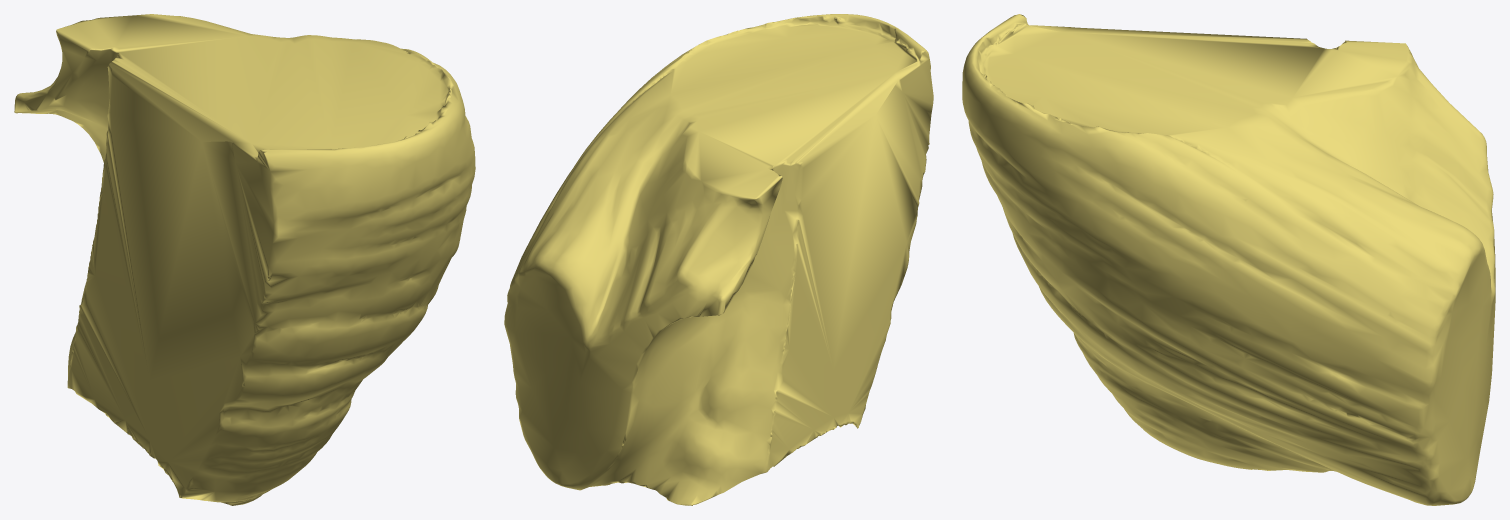
Rendered from pons-l.glb.
The picture shows the model from 3 angles, left to right: view 1: azimuth 30°, elevation 25°; view 2: azimuth 150°, elevation 25°; view 3: azimuth 270°, elevation 25°; orthographic projection. The views are drawn at different scales.
Parts seen in each view (by area): view 1: Pons.l; view 2: Pons.l; view 3: Pons.l.
Part boxes in pixels (x1=…): Pons.l: x1=14, y1=14, x2=475, y2=505; Pons.l: x1=504, y1=14, x2=933, y2=505; Pons.l: x1=962, y1=14, x2=1495, y2=505.
Bounding box in the file's own units: 0.0206 × 0.0278 × 0.0334.
